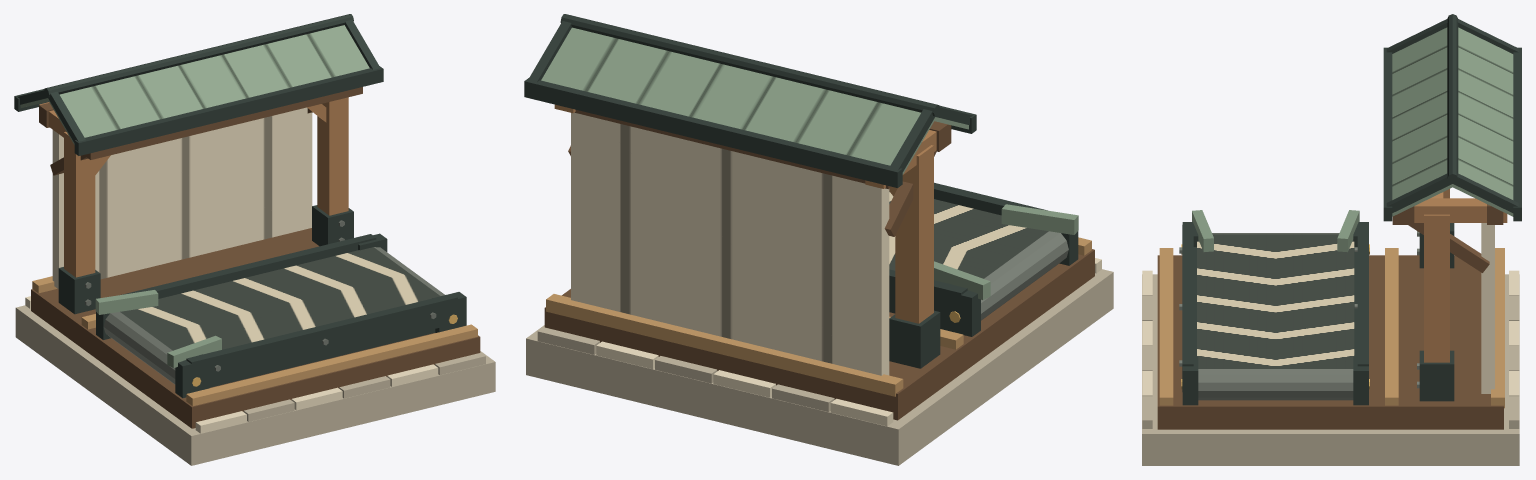
Rendered from warehouse.glb.
3 renders of one model, left to right at view 1: azimuth 30°, elevation 25°; view 2: azimuth 150°, elevation 25°; view 3: azimuth 270°, elevation 25°, orthographic. The views are drawn at different scales.
Visible parts, largest first — view 1: Mesh_warehouse_FacilityDetailPaint, Mesh_WarehouseFrame_FacilityDetailPaint, Mesh_WarehouseCanopy_FacilityDetailPaint, Continuous belt surface, Mesh_ConveyorInletRoller_FacilityDetailPaint, Mesh_ConveyorInlet_FacilityDetailPaint; view 2: Mesh_WarehouseFrame_FacilityDetailPaint, Mesh_warehouse_FacilityDetailPaint, Mesh_WarehouseCanopy_FacilityDetailPaint, Continuous belt surface, Mesh_ConveyorInletRoller_FacilityDetailPaint, Mesh_ConveyorInlet_FacilityDetailPaint; view 3: Mesh_warehouse_FacilityDetailPaint, Mesh_WarehouseCanopy_FacilityDetailPaint, Continuous belt surface, Mesh_WarehouseFrame_FacilityDetailPaint, Mesh_ConveyorOutletRoller_FacilityDetailPaint, Mesh_ConveyorInlet_FacilityDetailPaint.
Boxes of the visible parts, left/top/right/bottom form: Mesh_warehouse_FacilityDetailPaint: left=15, top=228, right=495, bottom=465; Mesh_WarehouseFrame_FacilityDetailPaint: left=39, top=87, right=362, bottom=314; Mesh_WarehouseCanopy_FacilityDetailPaint: left=14, top=14, right=383, bottom=155; Continuous belt surface: left=120, top=247, right=440, bottom=350; Mesh_ConveyorInletRoller_FacilityDetailPaint: left=103, top=312, right=175, bottom=384; Mesh_ConveyorInlet_FacilityDetailPaint: left=95, top=290, right=221, bottom=367; Mesh_WarehouseFrame_FacilityDetailPaint: left=554, top=104, right=951, bottom=375; Mesh_warehouse_FacilityDetailPaint: left=526, top=182, right=1113, bottom=465; Mesh_WarehouseCanopy_FacilityDetailPaint: left=524, top=14, right=976, bottom=187; Continuous belt surface: left=889, top=191, right=1048, bottom=278; Mesh_ConveyorInletRoller_FacilityDetailPaint: left=981, top=231, right=1068, bottom=320; Mesh_ConveyorInlet_FacilityDetailPaint: left=934, top=204, right=1078, bottom=299; Mesh_warehouse_FacilityDetailPaint: left=1142, top=222, right=1519, bottom=465; Mesh_WarehouseCanopy_FacilityDetailPaint: left=1383, top=14, right=1521, bottom=221; Continuous belt surface: left=1197, top=234, right=1354, bottom=368; Mesh_WarehouseFrame_FacilityDetailPaint: left=1392, top=189, right=1507, bottom=401; Mesh_ConveyorOutletRoller_FacilityDetailPaint: left=1198, top=369, right=1353, bottom=400; Mesh_ConveyorInlet_FacilityDetailPaint: left=1192, top=210, right=1359, bottom=252.
Size of the model in its own units: 0.962 by 0.82 by 0.966.
3 materials, 3 textured.
